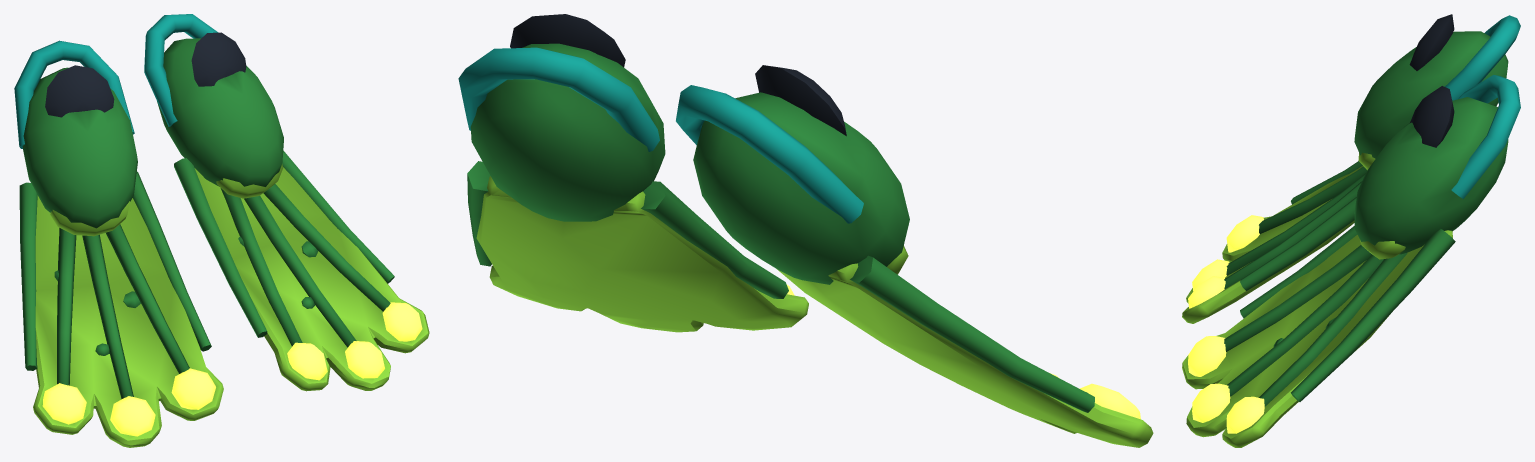
The model's file is frog-legs.glb.
3 renders of one model, left to right at view 1: azimuth 30°, elevation 25°; view 2: azimuth 150°, elevation 25°; view 3: azimuth 270°, elevation 25°, orthographic. The views are drawn at different scales.
Visible parts, largest first — view 1: Frog legs Frog deep green, Webbed frog foot L, Webbed frog foot R, Frog legs Frog toe glow, Frog legs Fin strap teal, Frog legs Fin charcoal, Frog legs Frog lime; view 2: Frog legs Frog deep green, Webbed frog foot R, Frog legs Fin strap teal, Webbed frog foot L, Frog legs Fin charcoal, Frog legs Frog toe glow; view 3: Frog legs Frog deep green, Webbed frog foot R, Frog legs Fin strap teal, Frog legs Frog toe glow, Frog legs Fin charcoal, Webbed frog foot L, Frog legs Frog lime.
Part boxes in pixels (box(x1,y1,x2,y2)): Frog legs Frog deep green: box(19, 38, 394, 398); Webbed frog foot L: box(33, 195, 223, 447); Webbed frog foot R: box(194, 167, 429, 391); Frog legs Frog toe glow: box(42, 302, 422, 436); Frog legs Fin strap teal: box(14, 14, 218, 148); Frog legs Fin charcoal: box(45, 32, 246, 117); Frog legs Frog lime: box(50, 164, 283, 236); Frog legs Frog deep green: box(467, 43, 1094, 412); Webbed frog foot R: box(476, 176, 808, 332); Frog legs Fin strap teal: box(458, 47, 863, 223); Webbed frog foot L: box(777, 263, 1153, 447); Frog legs Fin charcoal: box(510, 14, 846, 136); Frog legs Frog toe glow: box(786, 284, 1140, 419); Frog legs Frog deep green: box(1224, 31, 1508, 406); Webbed frog foot R: box(1182, 230, 1452, 447); Frog legs Fin strap teal: box(1445, 15, 1520, 198); Frog legs Frog toe glow: box(1188, 215, 1264, 433); Frog legs Fin charcoal: box(1409, 14, 1454, 147); Webbed frog foot L: box(1182, 166, 1363, 323); Frog legs Frog lime: box(1358, 152, 1405, 259).
Size of the model in its own units: 1.33 by 0.9373 by 0.91.
